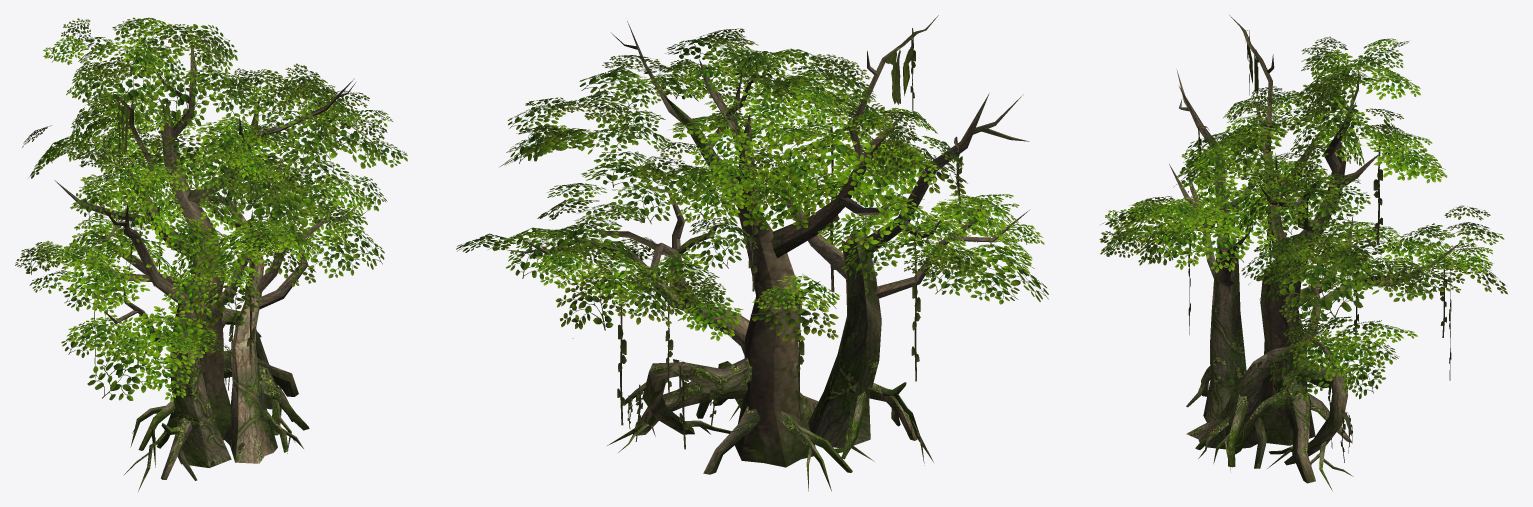
Rendered from 3004_Item_shu_5.FBX.
3 renders of one model, left to right at view 1: azimuth 30°, elevation 25°; view 2: azimuth 150°, elevation 25°; view 3: azimuth 270°, elevation 25°, orthographic. The views are drawn at different scales.
Visible parts, largest first — view 1: 3004_Item_shu_5; view 2: 3004_Item_shu_5; view 3: 3004_Item_shu_5.
Boxes of the visible parts, x1,y1,x2,y2 form: 3004_Item_shu_5: (15,17,407,491); 3004_Item_shu_5: (456,15,1048,491); 3004_Item_shu_5: (1099,15,1507,490).
Size of the model in its own units: 1527 by 1384 by 1433.
